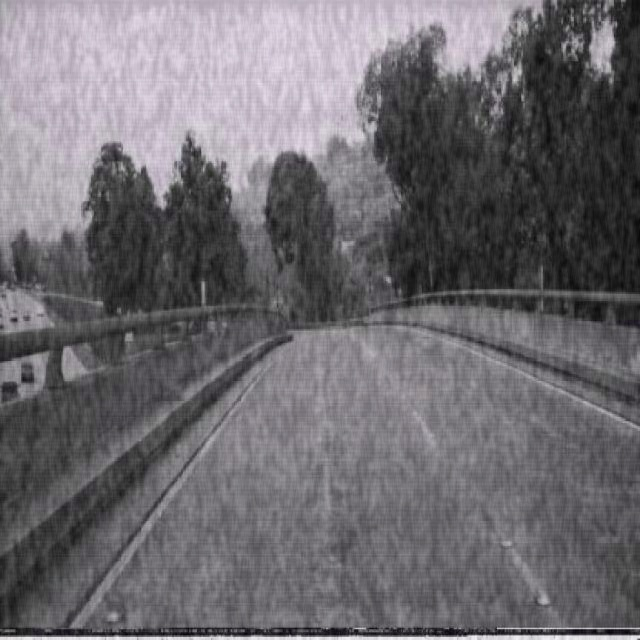signalAhead: (272, 290, 285, 312), (365, 275, 376, 298)
